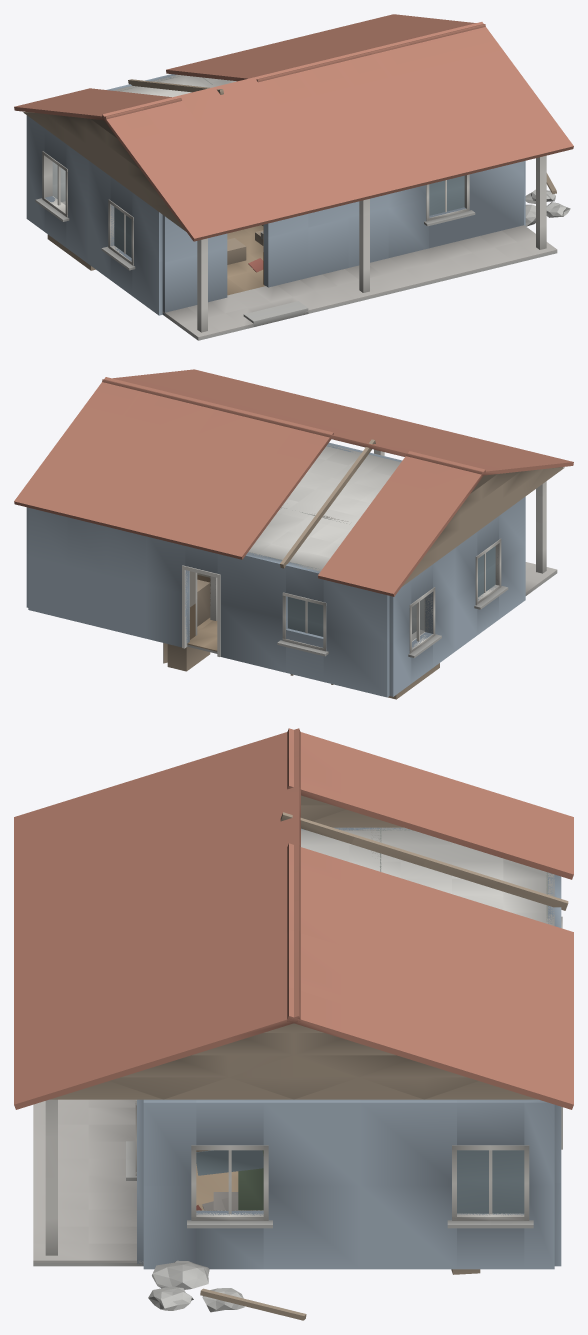
Rendered from casa_r8.glb.
3 views of the same model, one above another, from view 1: azimuth 30°, elevation 25°; view 2: azimuth 150°, elevation 25°; view 3: azimuth 270°, elevation 25° (orthographic). The views are drawn at different scales.
Visible parts, largest first — view 1: longe, ext, dentro, detalhe, mesa_centro_sala; view 2: longe, ext, dentro, detalhe, guarda_roupa_quarto2; view 3: longe, ext, dentro, detalhe.
Boxes of the visible parts, x1,y1,x2,y2 form: longe: (14,14,573,241); ext: (26,74,525,315); dentro: (52,74,557,340); detalhe: (35,151,570,332); mesa_centro_sala: (227,238,246,264); longe: (14,369,573,596); ext: (26,442,525,697); dentro: (187,444,557,653); detalhe: (182,449,546,657); guarda_roupa_quarto2: (163,579,210,671); longe: (14,728,573,1109); ext: (137,827,561,1269); dentro: (33,827,554,1266); detalhe: (45,916,562,1320).
Size of what is drawn, in the model's own units: 12.96 by 5.61 by 9.13.
